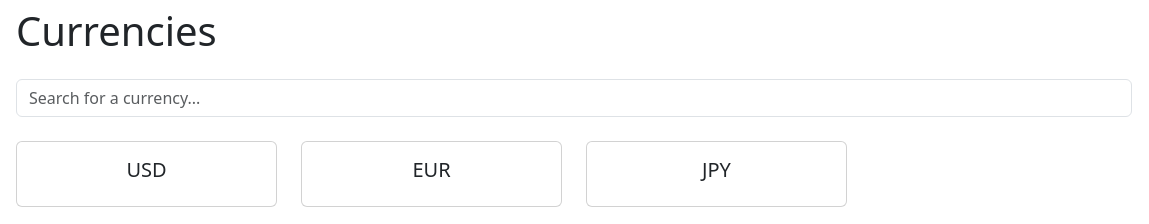
CurrenciesPage › filters currencies based on search input
In the field with placeholder "Search for a currency...": coordinates (574, 98) [16,79,1132,117], type "us"
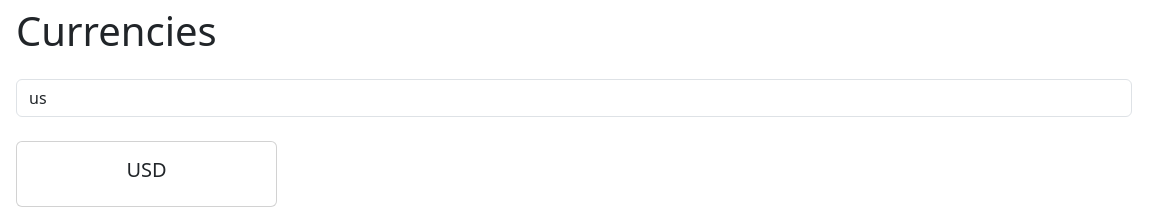
Expected: the text "USD" is shown, [126,156,167,183]
Now the link "EUR" is gone
